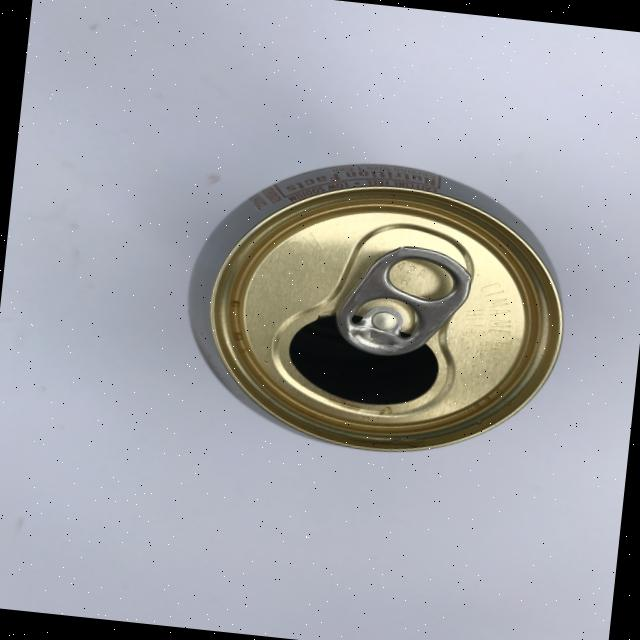metal: (174, 148, 578, 470)
